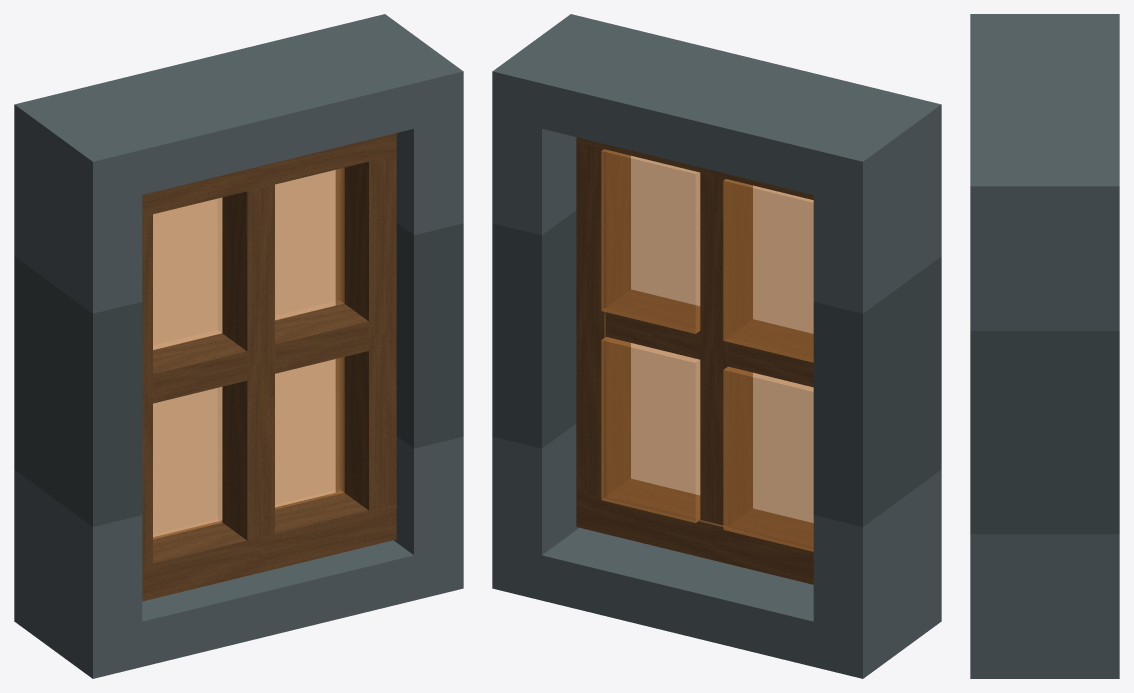
The model's file is timber-window.glb.
The picture shows the model from 3 angles, left to right: view 1: azimuth 30°, elevation 25°; view 2: azimuth 150°, elevation 25°; view 3: azimuth 270°, elevation 25°; orthographic projection. The views are drawn at different scales.
Parts seen in each view (by area): view 1: Inset stone sill and lintel.001, Inset stone sill and lintel, Recessed deep oak jamb.001, Thick dark cross vertical, Inset stone reveal jamb.001, Inset stone reveal jamb, Inset stone reveal jamb.002, Inset stone reveal jamb.003, Recessed oak sill and lintel, Four recessed warm glass panes.001, Four recessed warm glass panes.003, Four recessed warm glass panes (+9 smaller); view 2: Inset stone sill and lintel.001, Inset stone sill and lintel, Recessed deep oak jamb.001, Thick dark cross vertical, Four recessed warm glass panes.002, Four recessed warm glass panes.003, Four recessed warm glass panes, Four recessed warm glass panes.001, Inset stone reveal jamb.001, Inset stone reveal jamb, Inset stone reveal jamb.002, Inset stone reveal jamb.003 (+8 smaller); view 3: Inset stone sill and lintel.001, Inset stone reveal jamb.005, Inset stone reveal jamb.004, Inset stone reveal jamb.006, Inset stone reveal jamb.007, Inset stone sill and lintel.
Part boxes in pixels (x1=…): Inset stone sill and lintel.001: x1=14, y1=14, x2=463, y2=206; Inset stone sill and lintel: x1=14, y1=540, x2=463, y2=678; Recessed deep oak jamb.001: x1=342, y1=155, x2=396, y2=510; Thick dark cross vertical: x1=222, y1=184, x2=274, y2=540; Inset stone reveal jamb.001: x1=14, y1=363, x2=142, y2=526; Inset stone reveal jamb: x1=14, y1=470, x2=142, y2=633; Inset stone reveal jamb.002: x1=14, y1=256, x2=142, y2=420; Inset stone reveal jamb.003: x1=14, y1=150, x2=142, y2=313; Recessed oak sill and lintel: x1=142, y1=491, x2=396, y2=601; Four recessed warm glass panes.001: x1=153, y1=197, x2=222, y2=350; Four recessed warm glass panes.003: x1=275, y1=168, x2=344, y2=320; Four recessed warm glass panes: x1=153, y1=387, x2=222, y2=539; Inset stone sill and lintel.001: x1=492, y1=14, x2=941, y2=206; Inset stone sill and lintel: x1=492, y1=528, x2=941, y2=678; Recessed deep oak jamb.001: x1=576, y1=142, x2=630, y2=497; Thick dark cross vertical: x1=700, y1=172, x2=752, y2=525; Four recessed warm glass panes.002: x1=601, y1=337, x2=700, y2=522; Four recessed warm glass panes.003: x1=601, y1=149, x2=700, y2=333; Four recessed warm glass panes: x1=723, y1=366, x2=813, y2=551; Four recessed warm glass panes.001: x1=723, y1=179, x2=813, y2=362; Inset stone reveal jamb.001: x1=813, y1=363, x2=941, y2=526; Inset stone reveal jamb: x1=813, y1=470, x2=941, y2=633; Inset stone reveal jamb.002: x1=813, y1=256, x2=941, y2=420; Inset stone reveal jamb.003: x1=813, y1=150, x2=941, y2=313; Inset stone sill and lintel.001: x1=970, y1=14, x2=1119, y2=229; Inset stone reveal jamb.005: x1=970, y1=432, x2=1119, y2=534; Inset stone reveal jamb.004: x1=970, y1=534, x2=1119, y2=635; Inset stone reveal jamb.006: x1=970, y1=331, x2=1119, y2=432; Inset stone reveal jamb.007: x1=970, y1=229, x2=1119, y2=330; Inset stone sill and lintel: x1=970, y1=636, x2=1119, y2=678.
Size of the model in its own units: 0.6 by 0.8 by 0.22.
6 materials, 2 textured.
